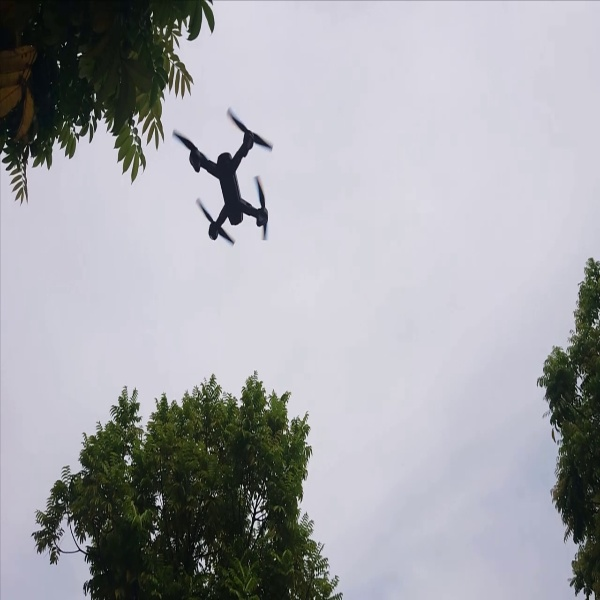drone: (169, 105, 290, 245)
